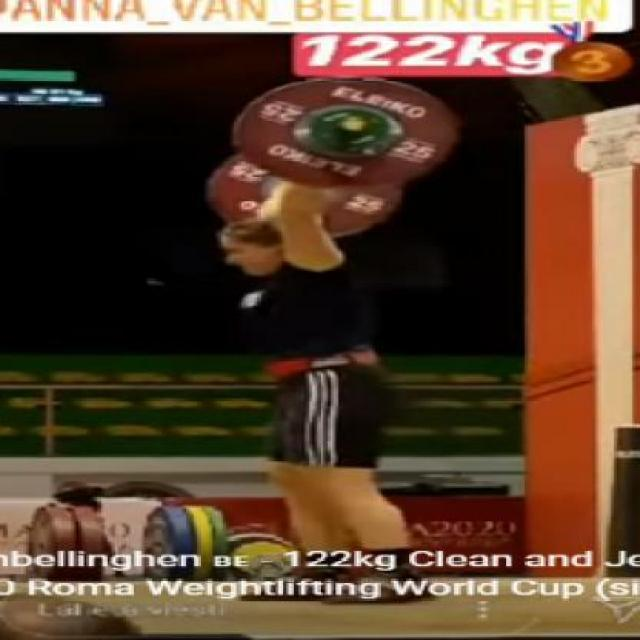Barbell: (331, 111, 378, 137)
